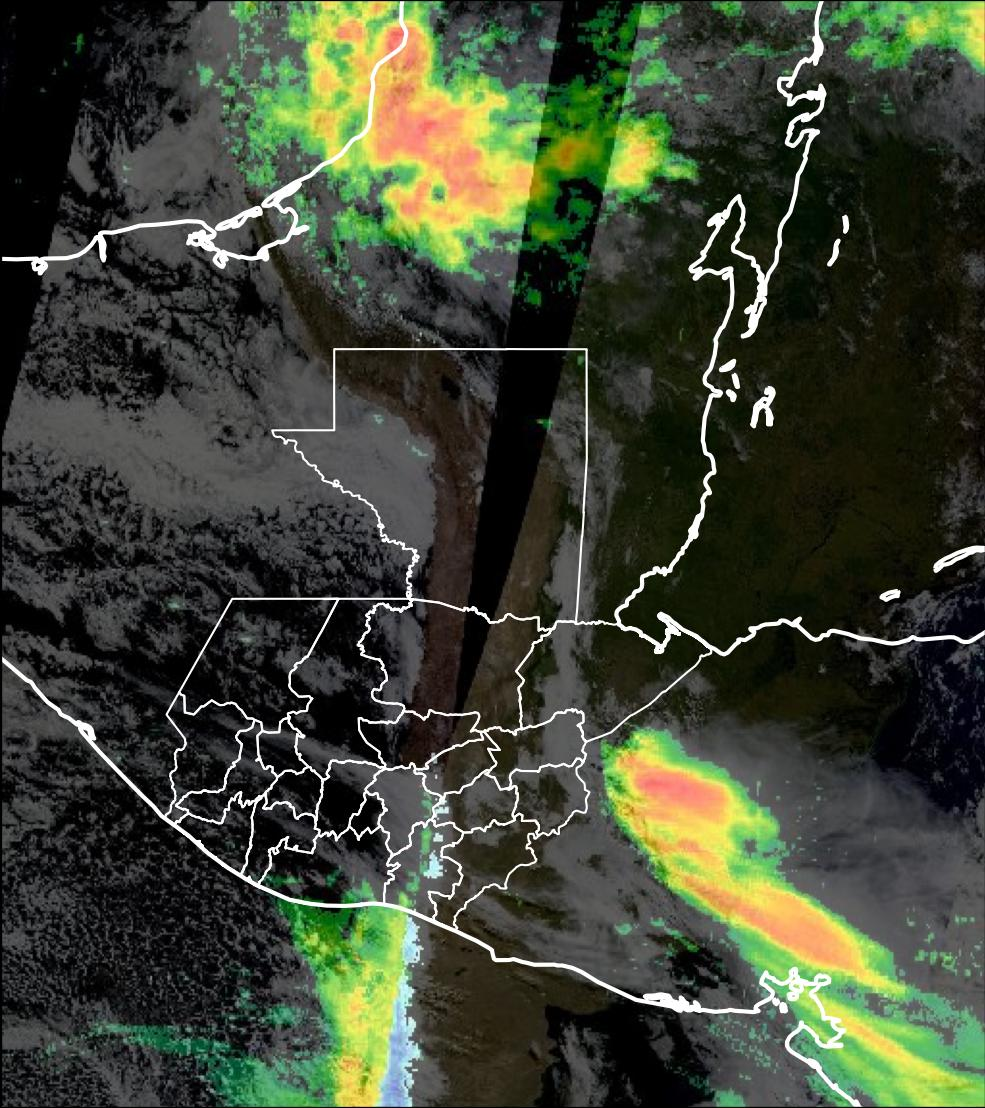precipitacion: (362, 74, 515, 227), (629, 747, 750, 882)
